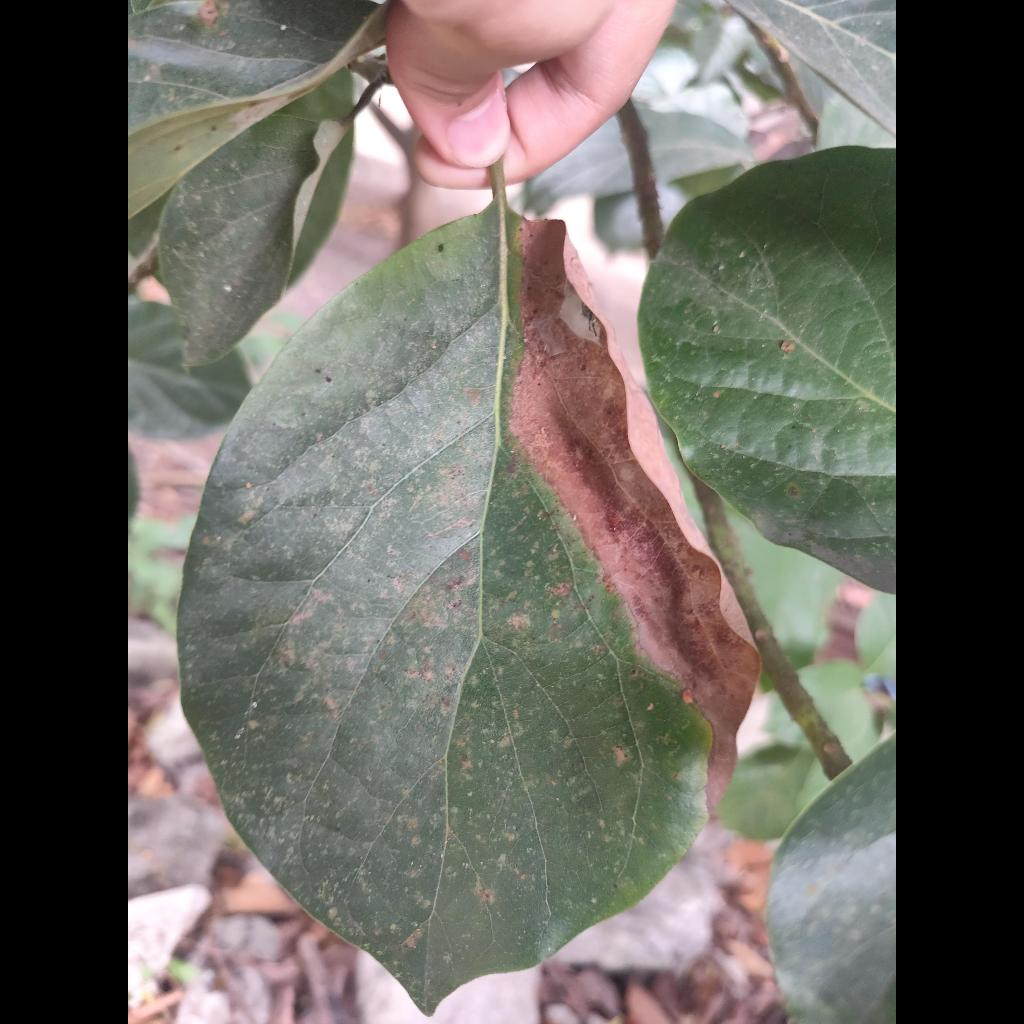antracnosis_hoja: (177, 202, 759, 1014)
